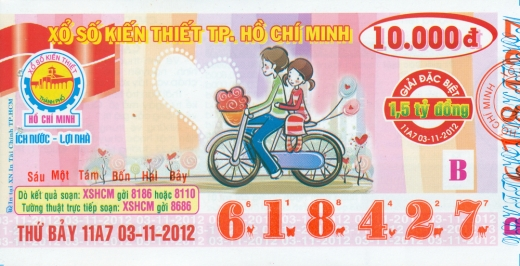serial_zone: (209, 193, 499, 246)
